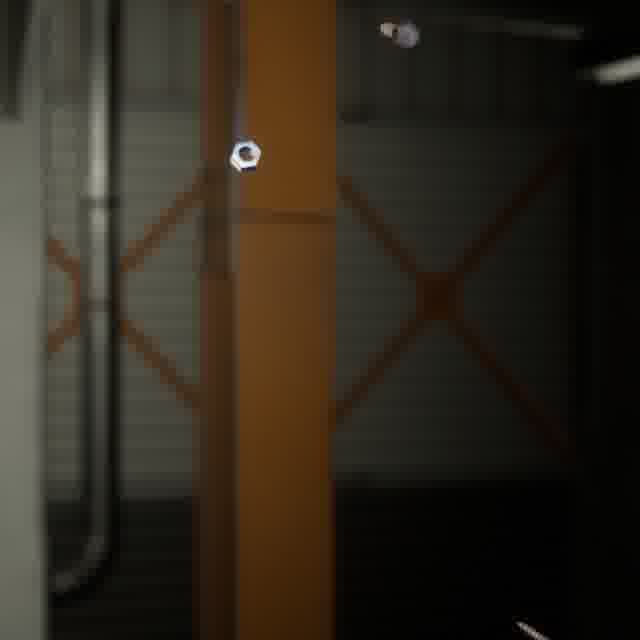bolt: (376, 17, 424, 55), (511, 616, 554, 640)
nut: (225, 136, 265, 176)
